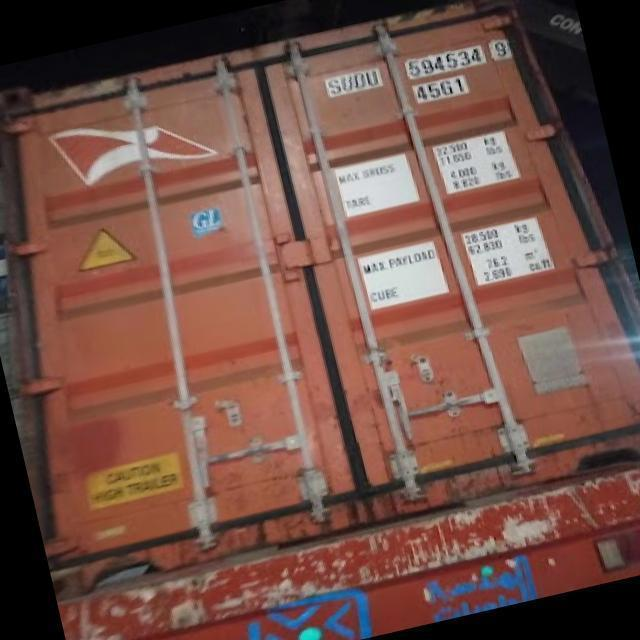ISO: (407, 77, 472, 101)
container_number: (328, 36, 506, 98)
